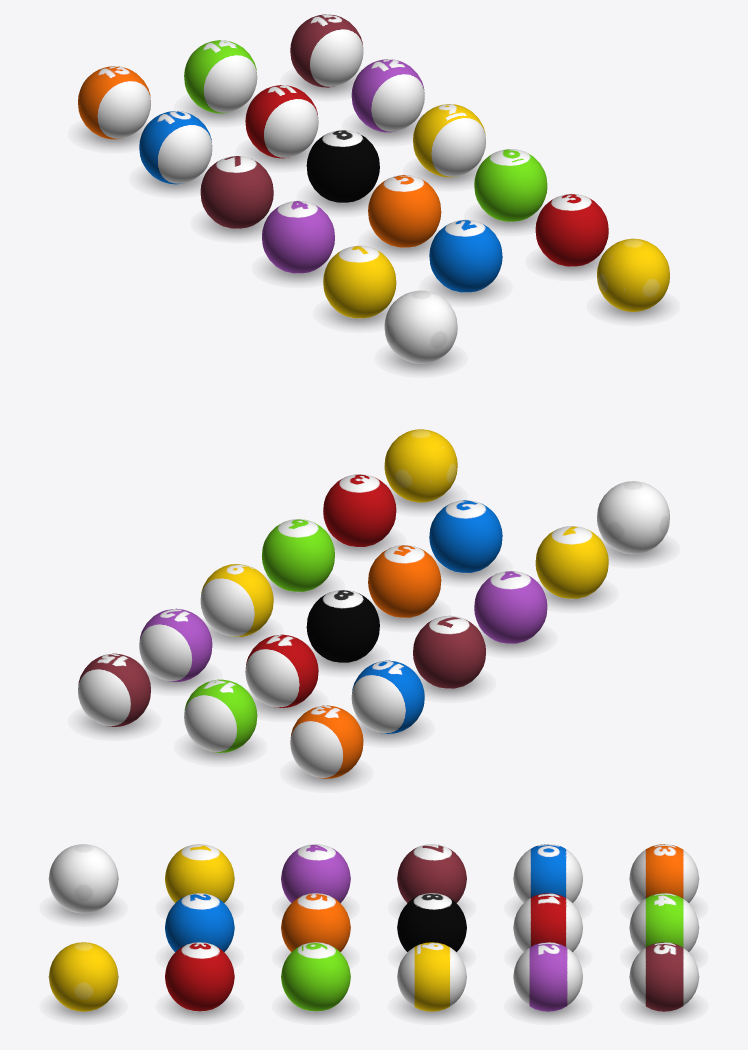
File: balls_all.fbx
The picture shows the model from 3 angles, top to bottom: view 1: azimuth 30°, elevation 25°; view 2: azimuth 150°, elevation 25°; view 3: azimuth 270°, elevation 25°; orthographic projection. The views are drawn at different scales.
Parts seen in each view (by area): view 1: Ball_00, Ball_2, Ball_00_1, Ball_11, Ball_10, Ball_1, Ball_12, Ball_8, Ball_13, Ball_15, Ball_7, Ball_6 (+5 smaller); view 2: Ball_13, Ball_14, Ball_15, Ball_10, Ball_2, Ball_1, Ball_11, Ball_3, Ball_5, Ball_00, Ball_00_1, Ball_4 (+5 smaller); view 3: Ball_12, Ball_3, Ball_9, Ball_6, Ball_00_1, Ball_15, Ball_00, Ball_7, Ball_4, Ball_8, Ball_5, Ball_11 (+5 smaller).
Boxes of the visible parts, x1,y1,x2,y2 form: Ball_00: [384, 290, 457, 371]; Ball_2: [429, 219, 502, 300]; Ball_00_1: [597, 238, 669, 319]; Ball_11: [245, 85, 318, 166]; Ball_10: [139, 111, 212, 192]; Ball_1: [323, 245, 396, 326]; Ball_12: [351, 59, 424, 140]; Ball_8: [306, 130, 379, 211]; Ball_13: [78, 66, 150, 147]; Ball_15: [290, 14, 363, 95]; Ball_7: [200, 156, 273, 237]; Ball_6: [474, 149, 547, 230]; Ball_13: [290, 705, 363, 786]; Ball_14: [184, 679, 257, 760]; Ball_15: [78, 653, 150, 734]; Ball_10: [351, 660, 424, 741]; Ball_2: [429, 500, 502, 581]; Ball_1: [535, 526, 608, 607]; Ball_11: [245, 634, 318, 715]; Ball_3: [323, 474, 396, 555]; Ball_5: [368, 545, 441, 626]; Ball_00: [597, 481, 669, 562]; Ball_00_1: [384, 429, 457, 510]; Ball_4: [474, 571, 547, 652]; Ball_12: [513, 942, 582, 1019]; Ball_3: [165, 942, 234, 1019]; Ball_9: [397, 942, 466, 1019]; Ball_6: [281, 942, 350, 1019]; Ball_00_1: [48, 942, 118, 1019]; Ball_15: [629, 942, 699, 1019]; Ball_00: [48, 844, 118, 920]; Ball_7: [397, 844, 466, 910]; Ball_4: [281, 844, 350, 910]; Ball_8: [397, 893, 466, 959]; Ball_5: [281, 893, 350, 959]; Ball_11: [513, 893, 582, 959].
Bounding box in the file's own units: 32 × 6.02 × 62.
